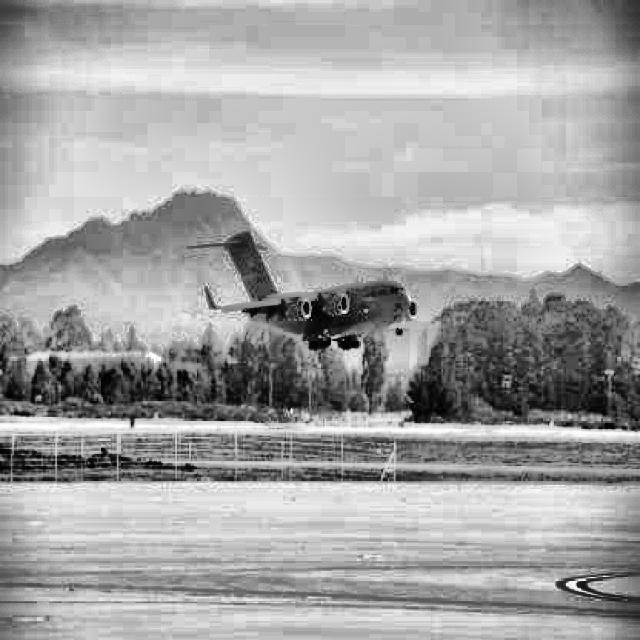C17: (186, 230, 419, 350)
